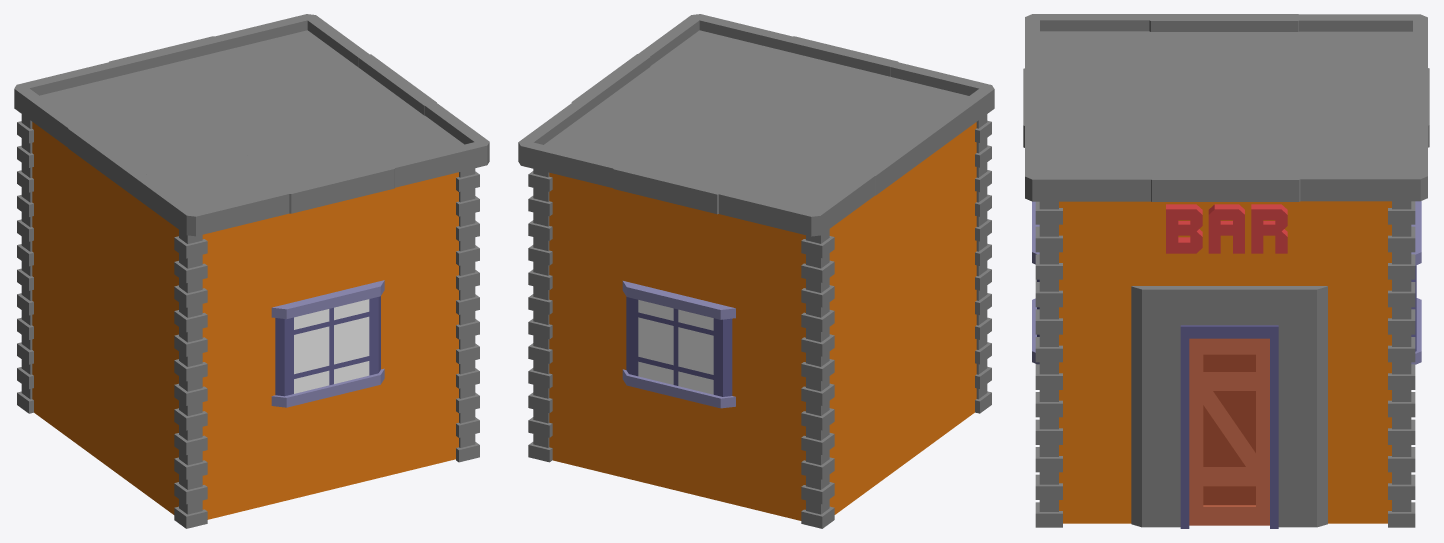
Rendered from bar.fbx.
The picture shows the model from 3 angles, left to right: view 1: azimuth 30°, elevation 25°; view 2: azimuth 150°, elevation 25°; view 3: azimuth 270°, elevation 25°; orthographic projection. The views are drawn at different scales.
Visible parts, largest first — view 1: mergedBlocks; view 2: mergedBlocks; view 3: mergedBlocks.
Boxes of the visible parts, <box> form: mergedBlocks: <box>14,14,489,528</box>; mergedBlocks: <box>518,14,994,528</box>; mergedBlocks: <box>1023,14,1429,528</box>.
Size of the model in its own units: 32.31 by 32 by 33.44.
